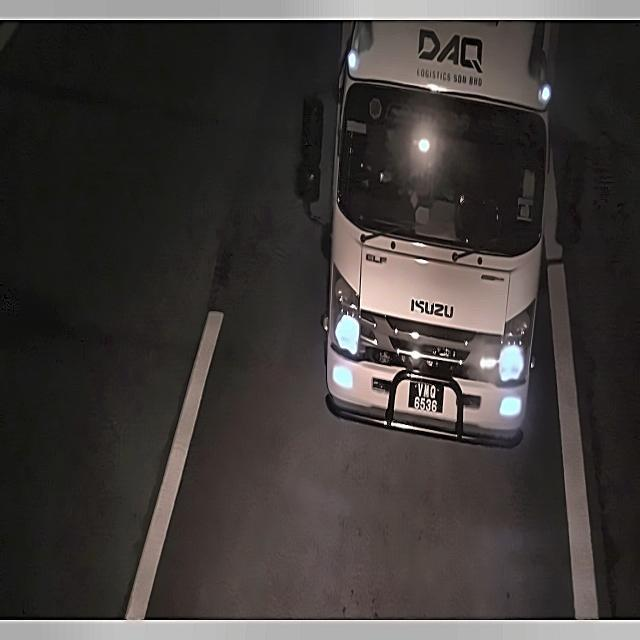car: (407, 377, 446, 419)
